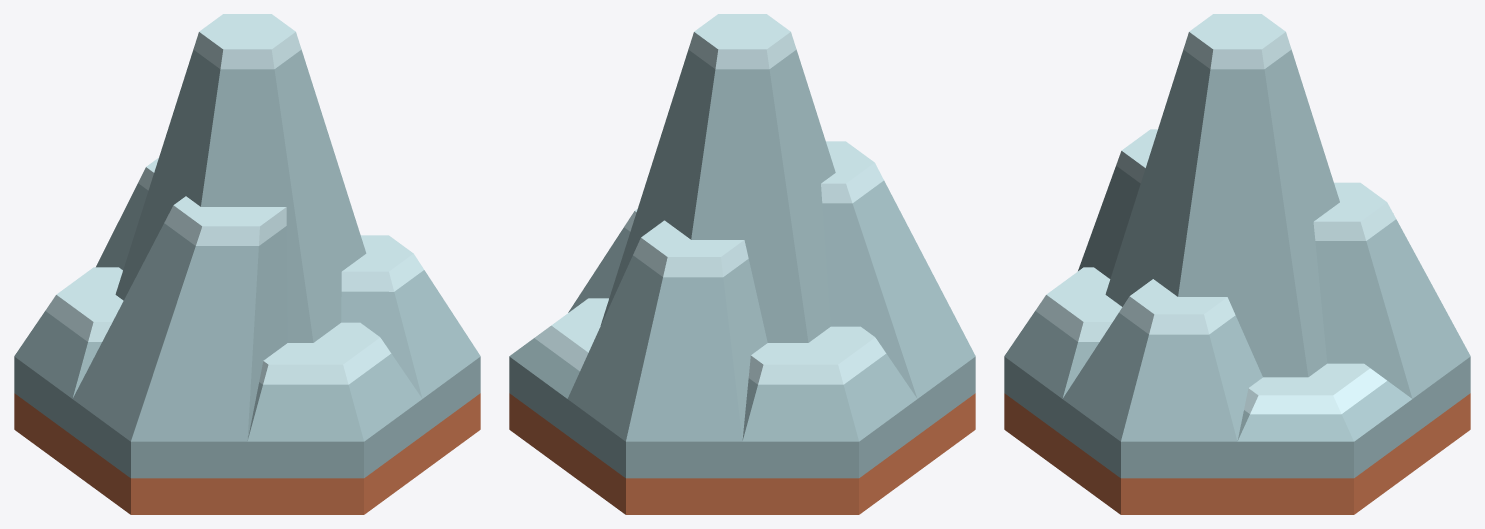
Rendered from stone_mountain.dae.
3 views of the same model, side by side, from view 1: azimuth 30°, elevation 25°; view 2: azimuth 150°, elevation 25°; view 3: azimuth 270°, elevation 25° (orthographic).
Visible parts, largest first — view 1: rockLarge, stone_mountain; view 2: rockLarge, stone_mountain; view 3: rockLarge, stone_mountain.
Part boxes in pixels (bbox=[...]): rockLarge: bbox=[14, 14, 480, 441]; stone_mountain: bbox=[14, 356, 480, 514]; rockLarge: bbox=[509, 14, 975, 441]; stone_mountain: bbox=[509, 356, 975, 514]; rockLarge: bbox=[1004, 14, 1470, 441]; stone_mountain: bbox=[1004, 356, 1470, 514].
Size of the model in its own units: 1 by 1.09 by 1.15.
